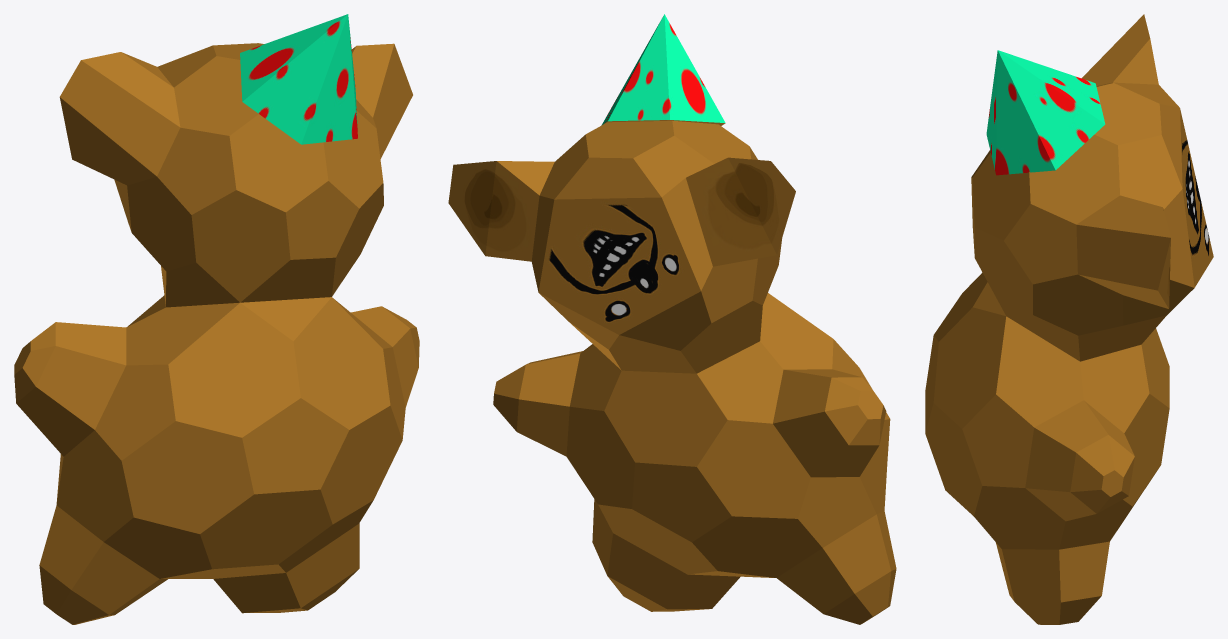
The model's file is teddy_powerup.fbx.
The picture shows the model from 3 angles, left to right: view 1: azimuth 30°, elevation 25°; view 2: azimuth 150°, elevation 25°; view 3: azimuth 270°, elevation 25°; orthographic projection. The views are drawn at different scales.
Visible parts, largest first — view 1: pSolid5; view 2: pSolid5; view 3: pSolid5.
Part boxes in pixels (x1,y1,x2,y2): pSolid5: [14, 14, 419, 624]; pSolid5: [448, 14, 896, 624]; pSolid5: [925, 14, 1213, 624].
Size of the model in its own units: 0.00538 by 0.00728 by 0.00325.
